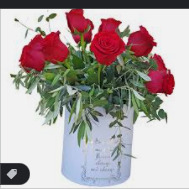RedRose: (82, 24, 123, 64), (59, 7, 91, 42), (15, 39, 44, 74), (42, 31, 69, 65), (128, 23, 156, 55), (147, 69, 174, 98), (96, 16, 124, 36), (148, 51, 170, 73)
